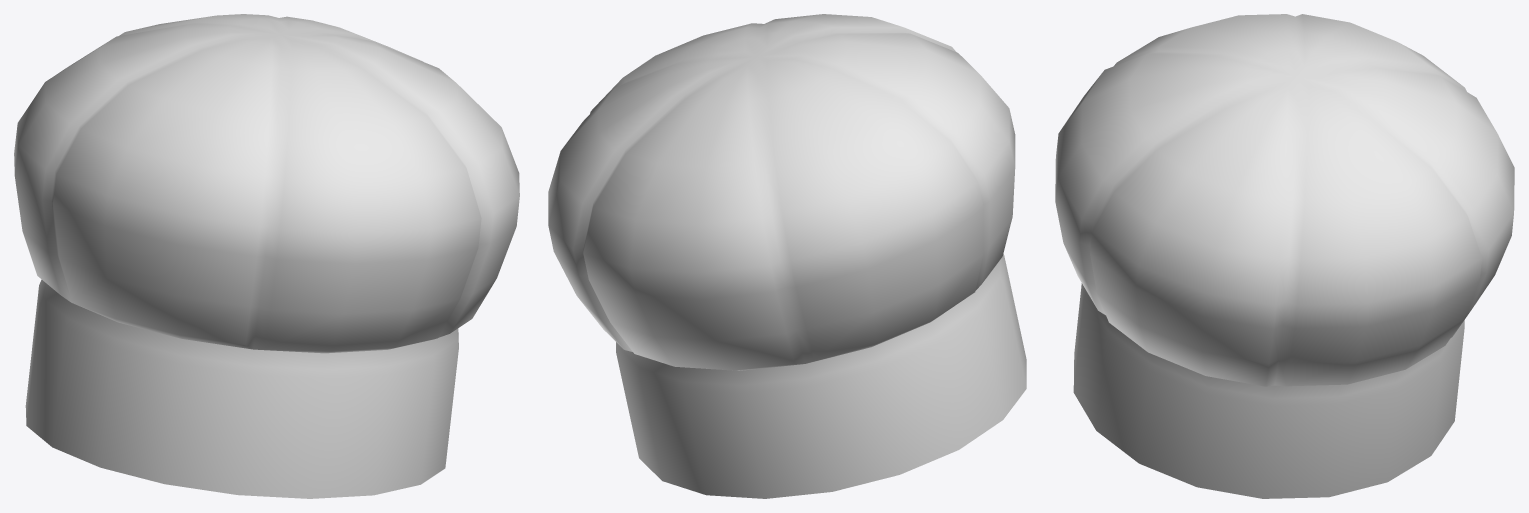
File: ChefsHat.FBX
The picture shows the model from 3 angles, left to right: view 1: azimuth 30°, elevation 25°; view 2: azimuth 150°, elevation 25°; view 3: azimuth 270°, elevation 25°; orthographic projection. The views are drawn at different scales.
Parts seen in each view (by area): view 1: ChefsHat; view 2: ChefsHat; view 3: ChefsHat.
Part boxes in pixels (left/top/right/bottom): ChefsHat: left=14, top=14, right=519, bottom=498; ChefsHat: left=548, top=14, right=1026, bottom=498; ChefsHat: left=1055, top=14, right=1514, bottom=498.
Bounding box in the file's own units: 47.86 × 43.24 × 47.21.
Materials: 1 (1 with a texture image).
